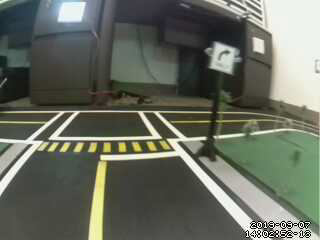Right_only_sign: (210, 37, 239, 79)
